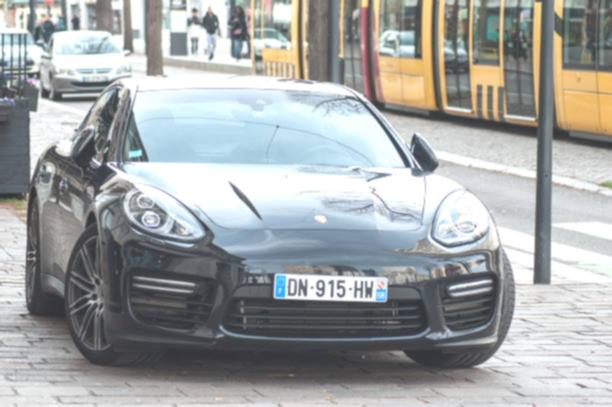porsche: (310, 210, 335, 226)
